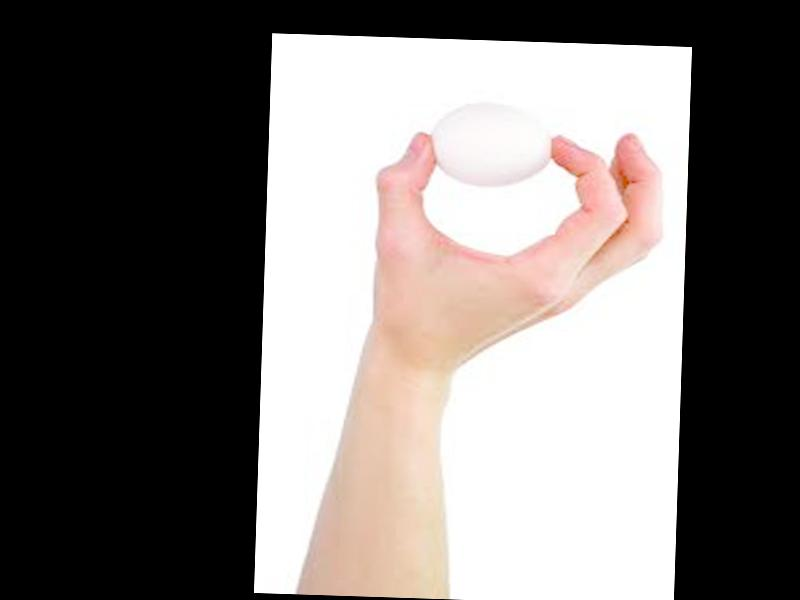Eggs: (430, 100, 554, 188)
